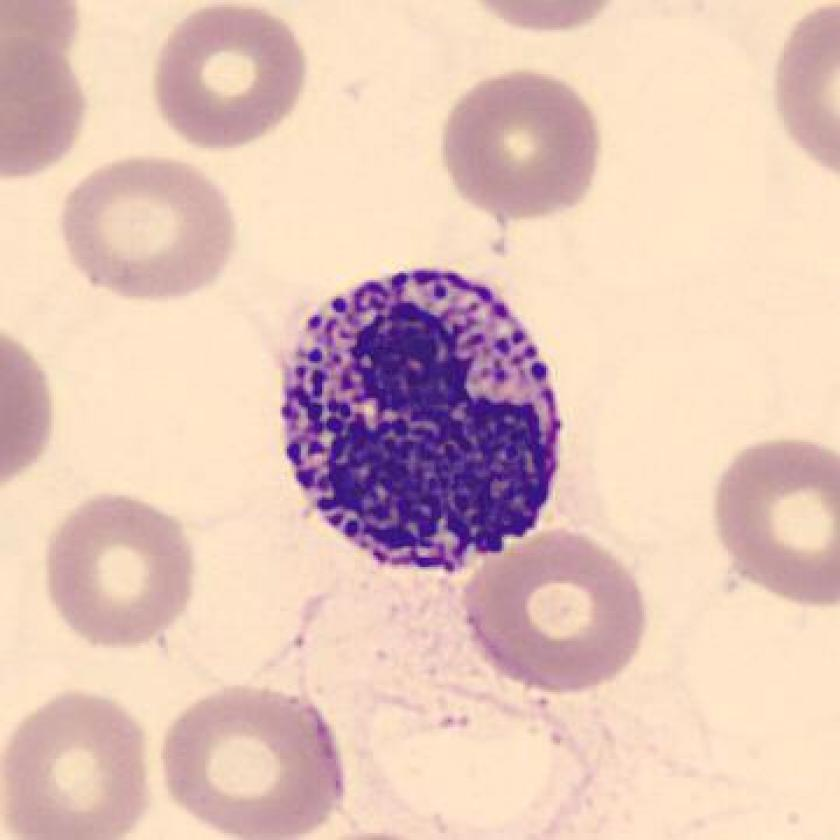basophil: (274, 265, 575, 584)
